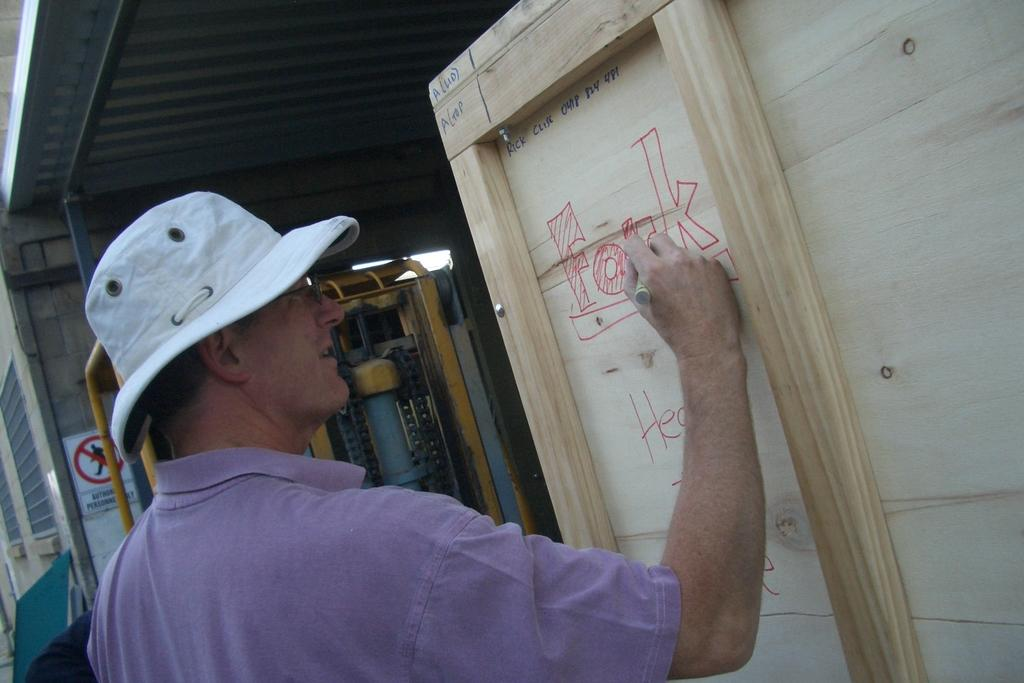Hat: (84, 192, 356, 466)
